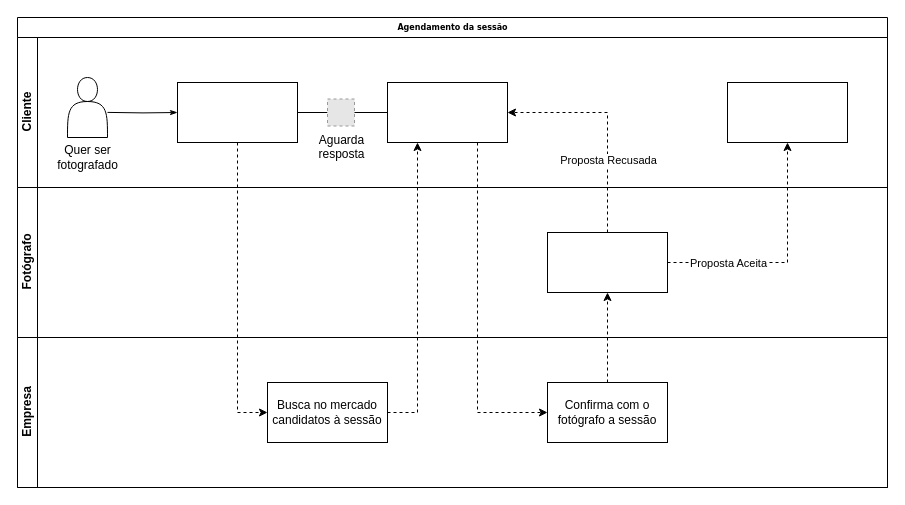
Some shapes in this 905 by 505 pixel diagram are drawn without their labels. Grey dashed boxes stand in for pictures. The shapes that lost their labels are listed below. From the top down, each one's centre as x and y in pixels, then its label:
At point 237,112: "Descreve como será a sessão".
At point 447,112: "Analisa os portifólios dos candidatos".
At point 787,112: "Confirma agendamento da sessão".
At point 607,262: "Avalia a proposta".
